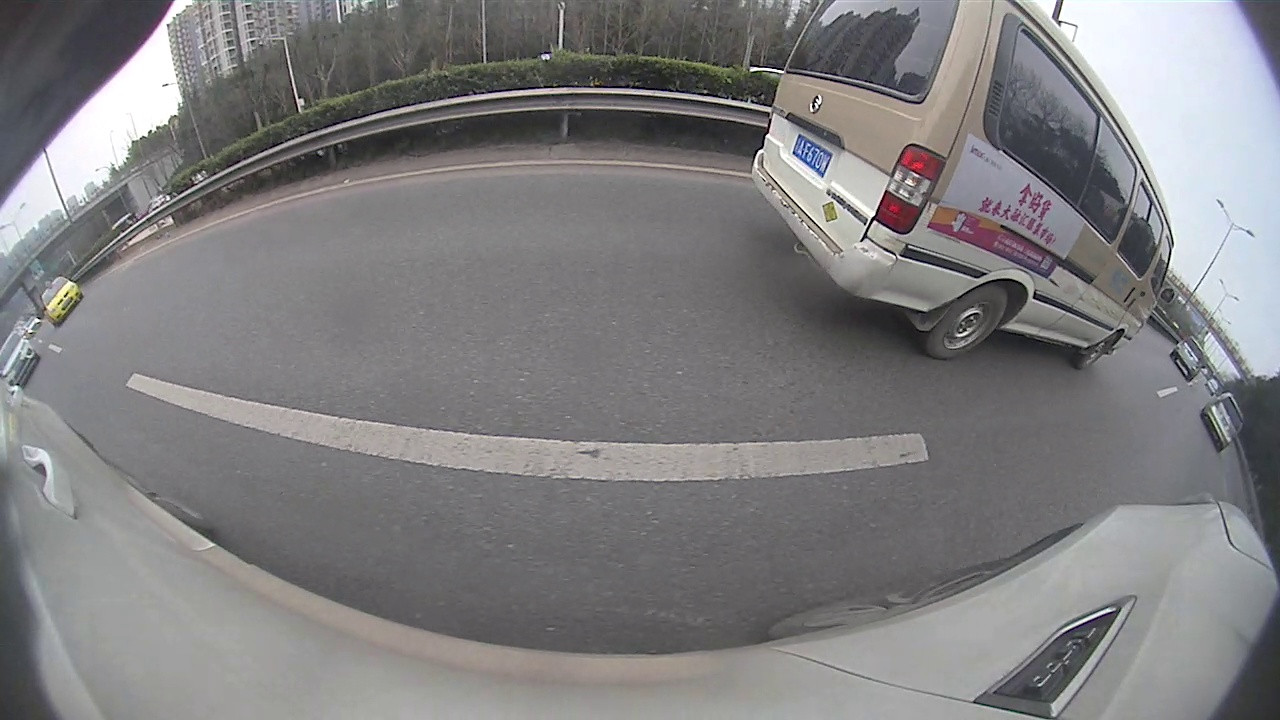car: (753, 1, 1179, 368), (1205, 391, 1246, 454), (38, 277, 85, 328), (5, 334, 44, 390), (1174, 340, 1208, 381)
front: (1069, 331, 1121, 369)
rear: (919, 281, 1012, 363)
